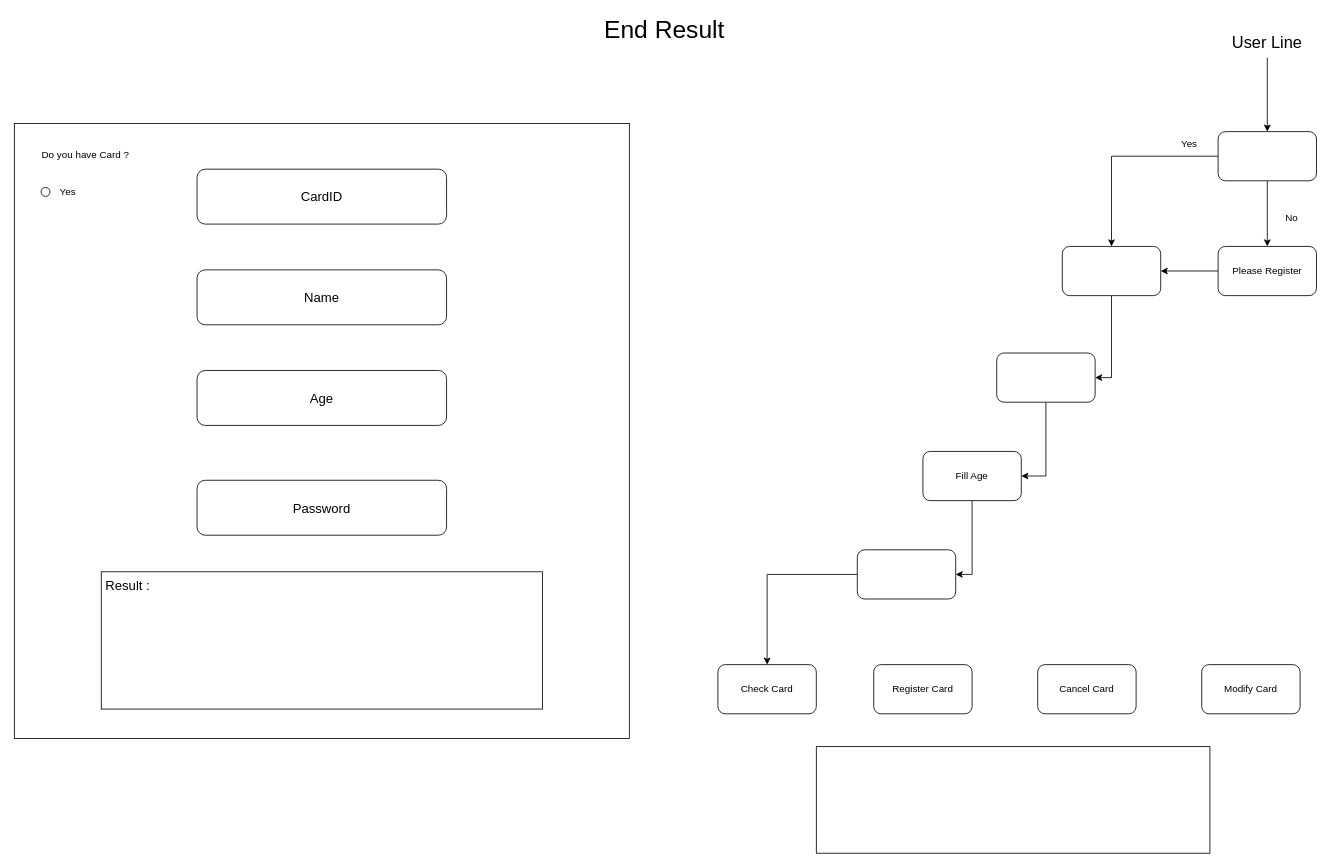
The diagram is 1335 pixels wide and 868 high, and some of its shapes have lost their labels. Each missing label, with the centre of its shape:
"Check answer Box" belongs at (1267,156).
"Fill CardID" belongs at (1111,271).
"Fill Name" belongs at (1045,377).
"Fill Password" belongs at (906,574).
"Result" belongs at (1012,799).
